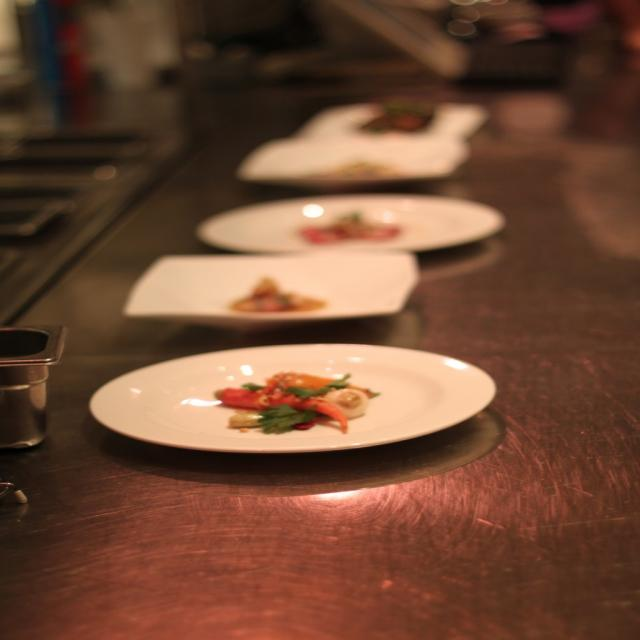non-organic waste: (87, 340, 498, 488), (99, 239, 475, 362), (230, 94, 498, 195), (181, 186, 508, 262)
